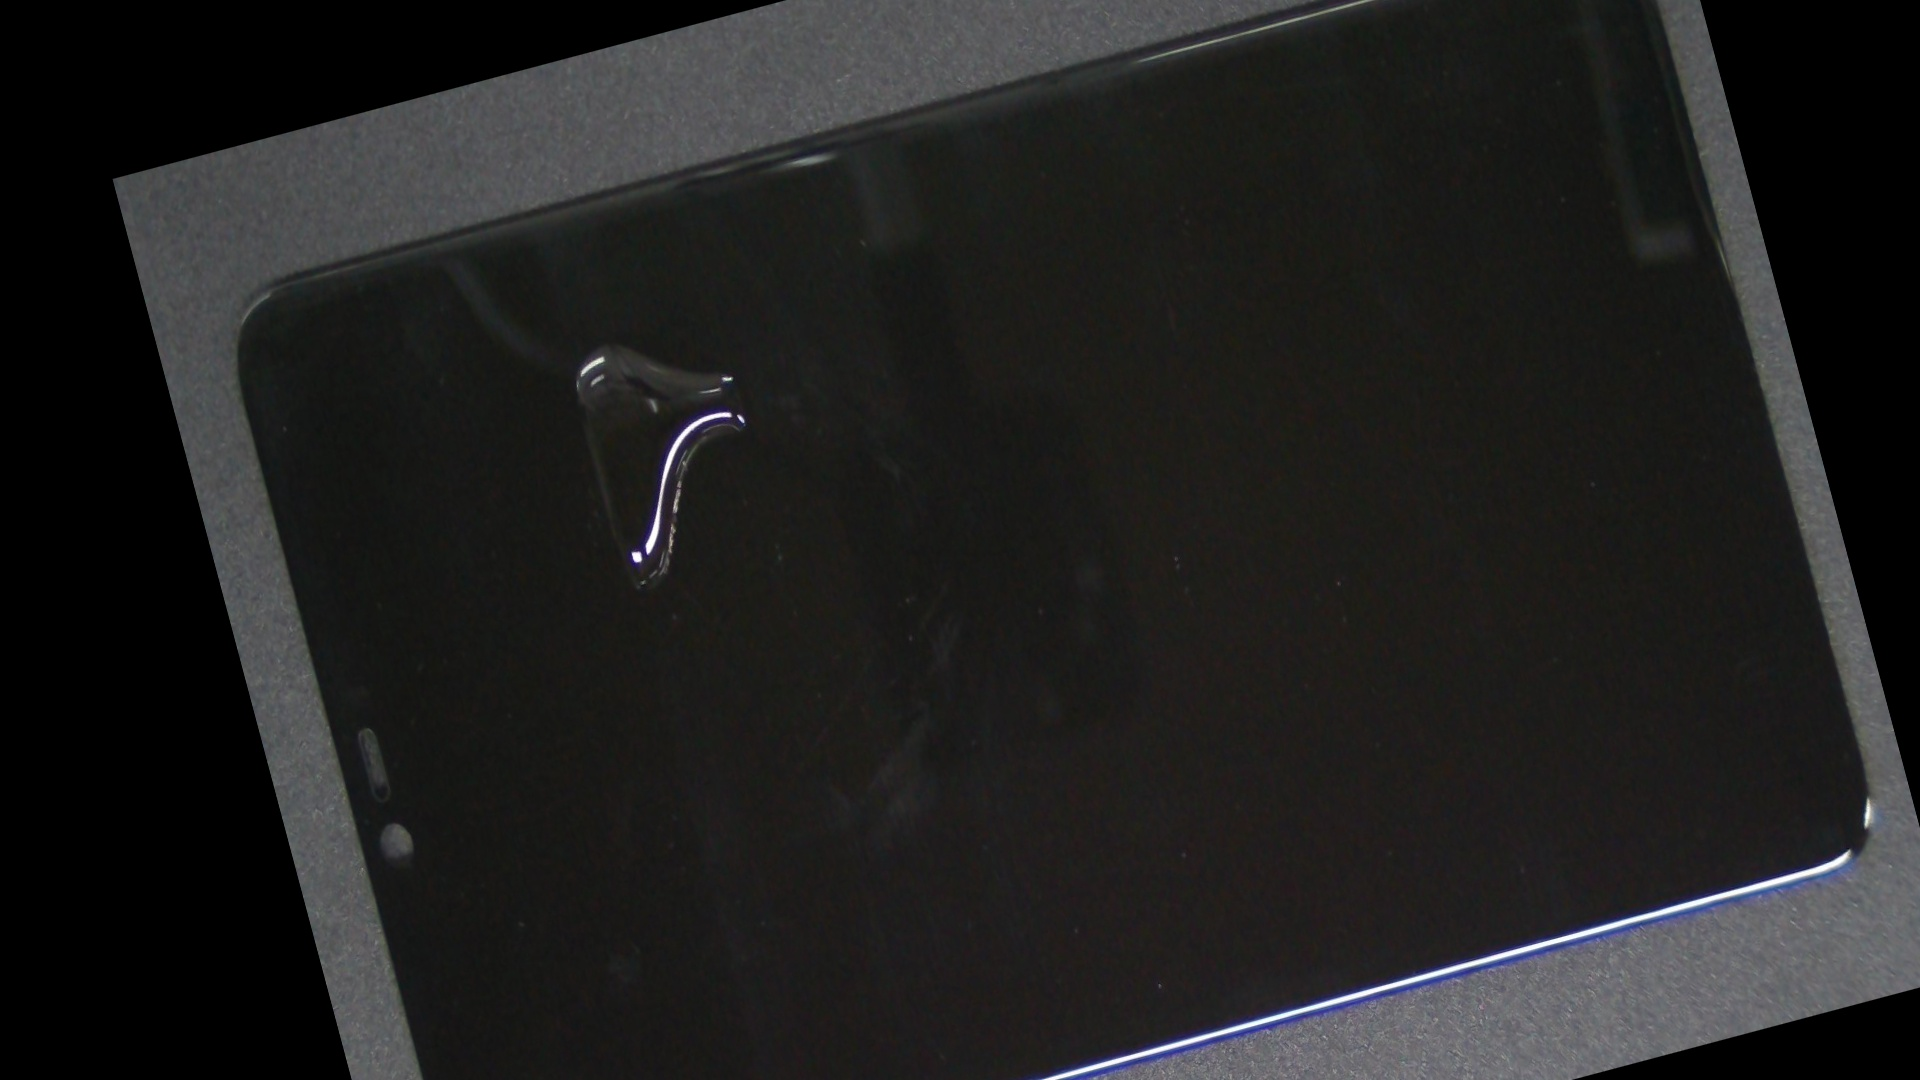oil: (361, 148, 857, 538)
